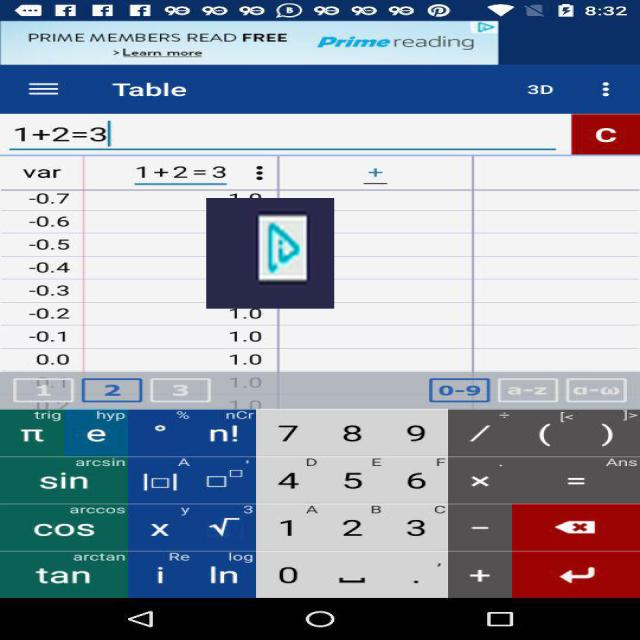sneaking: (206, 198, 334, 309)
